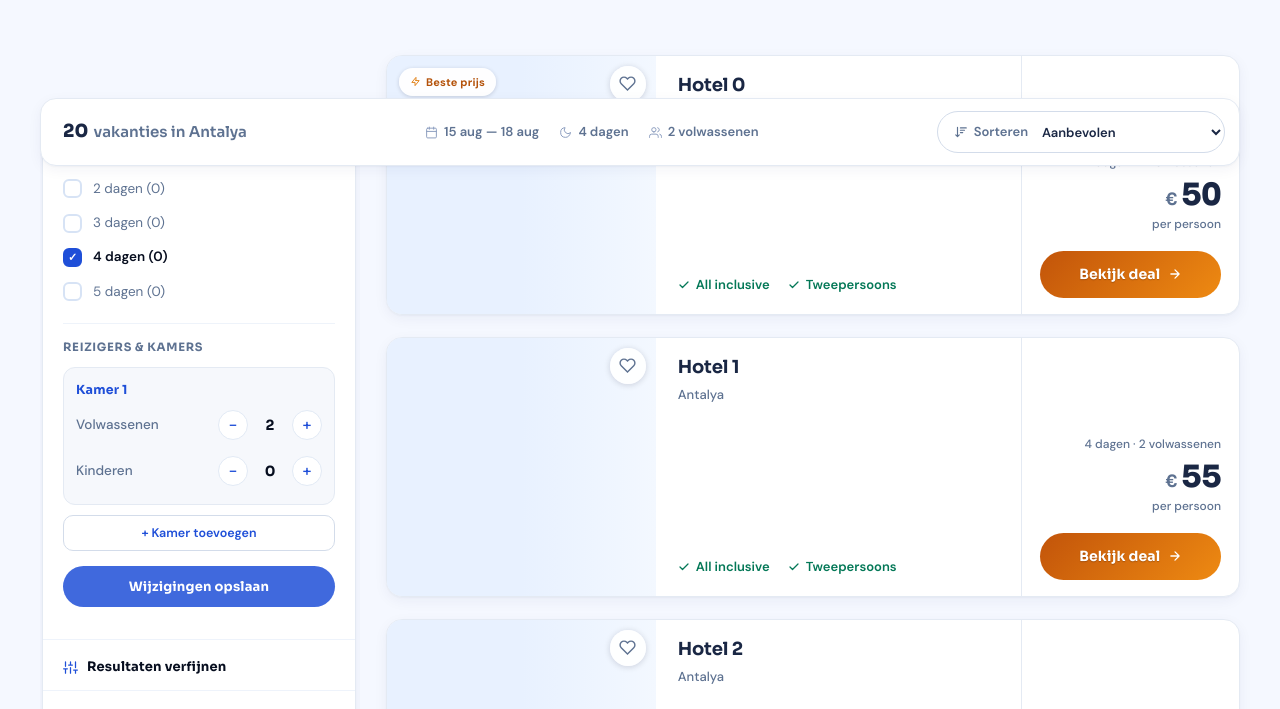
Test case: sidebar layout › goes quiet again once the change has been saved
(page scrolled)
Click the button named "Meer volwassenen": coordinates (307, 426) [292,411,322,441]
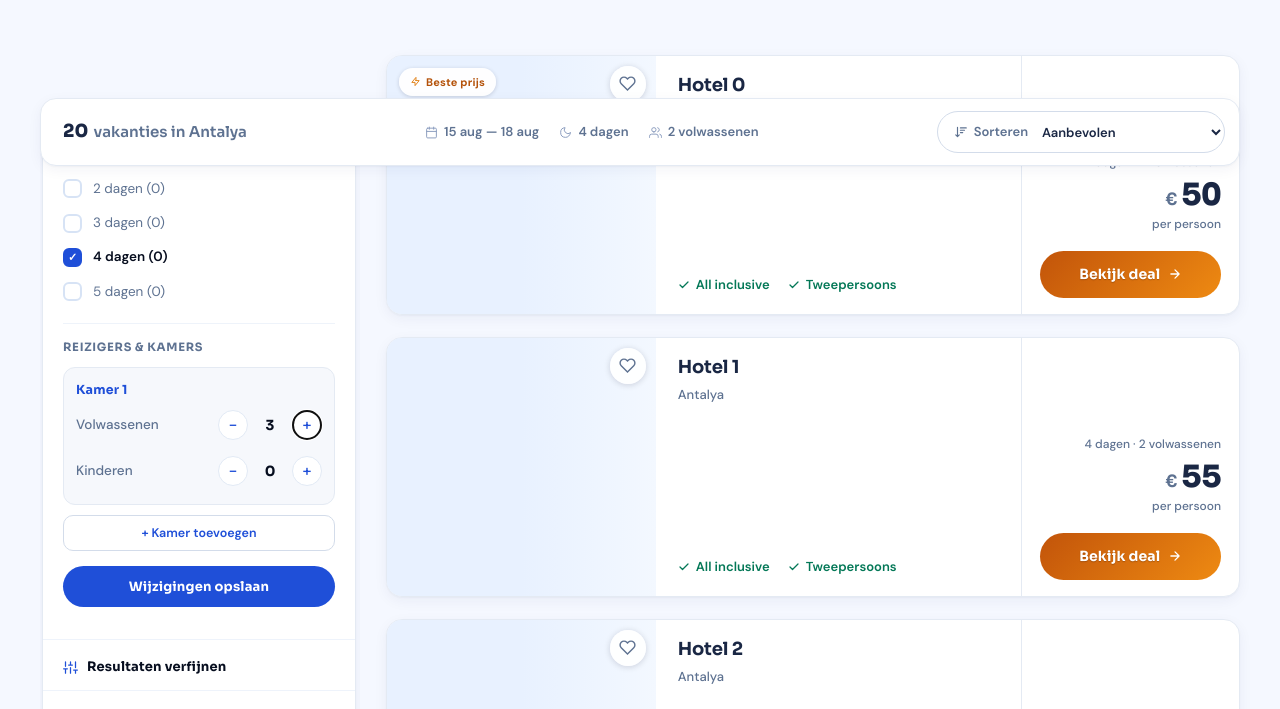
Result: the button "Wijzigingen opslaan" is enabled
Click the button "Wijzigingen opslaan": coordinates (199, 587) [63,567,335,608]
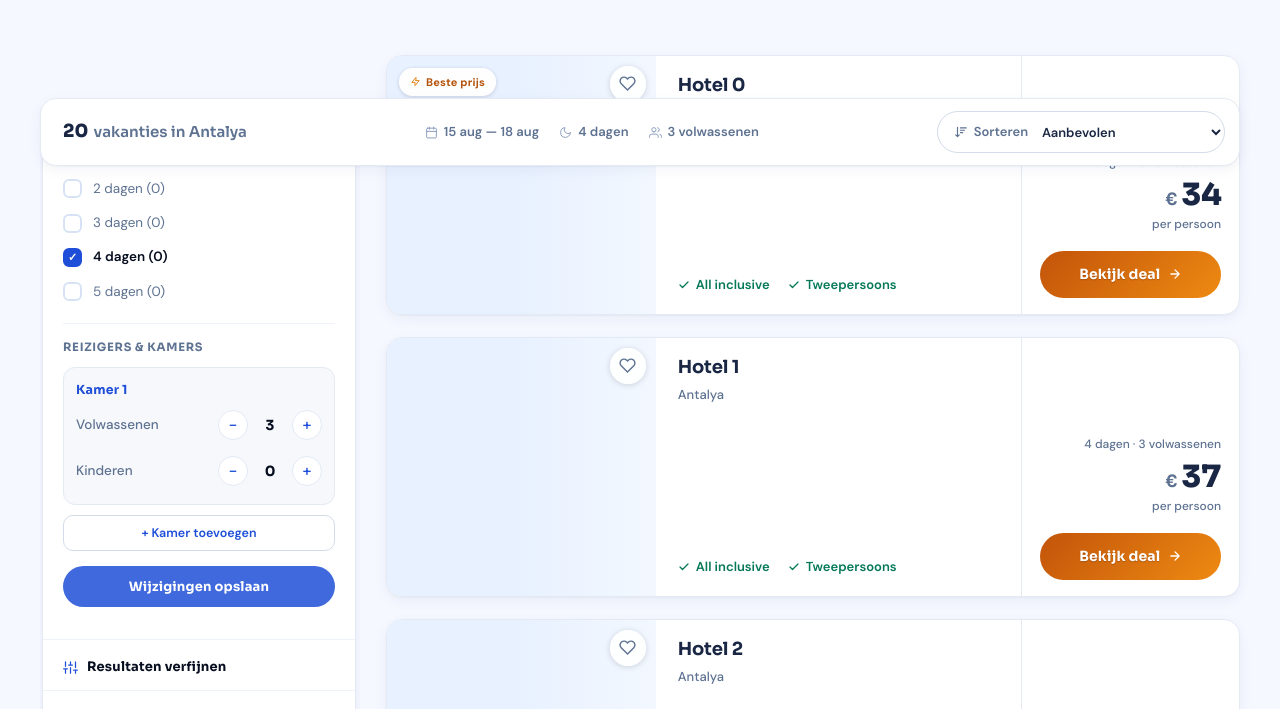
Result: the button "Wijzigingen opslaan" is disabled at [63,567,335,608]
